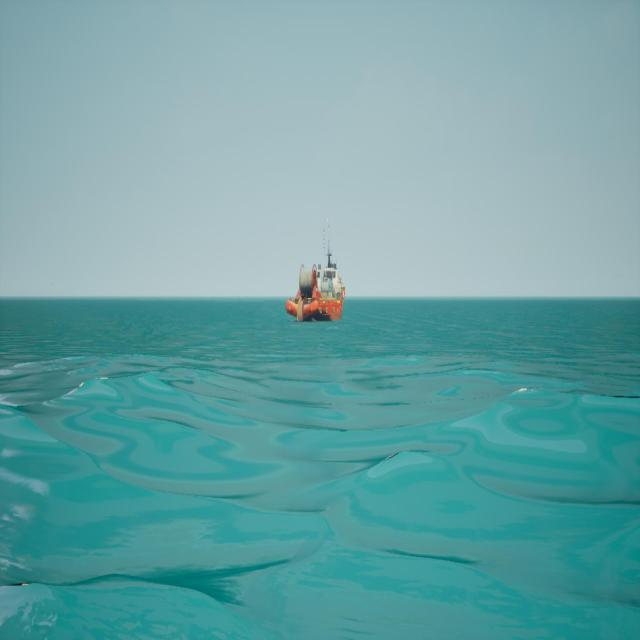tug boat: (290, 222, 347, 324)
